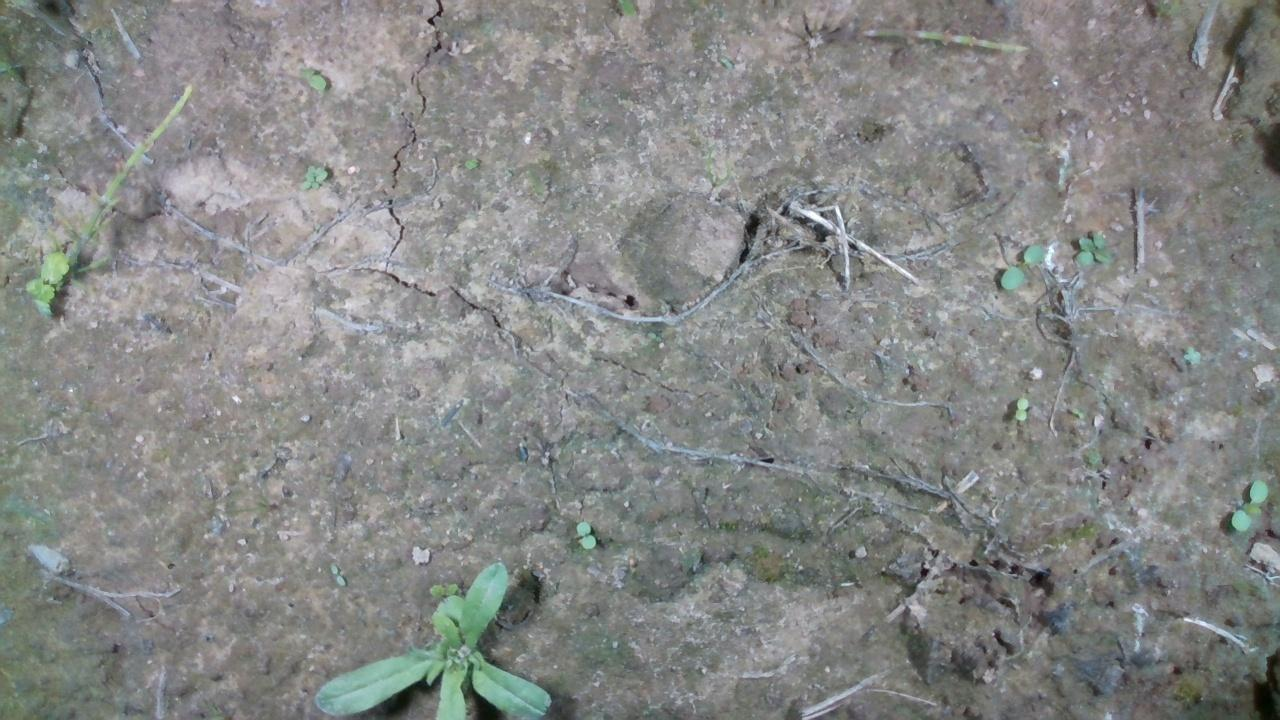weed: (1230, 476, 1270, 530), (1001, 240, 1035, 284), (566, 517, 598, 549), (294, 162, 329, 191), (301, 63, 326, 92), (1008, 394, 1033, 419), (1174, 343, 1200, 364)
